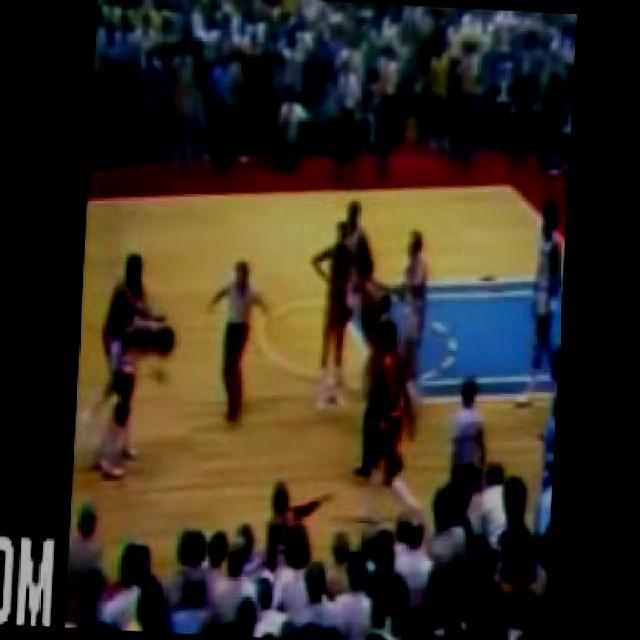non-fight: (92, 246, 176, 477), (197, 248, 277, 422), (507, 200, 565, 406)
